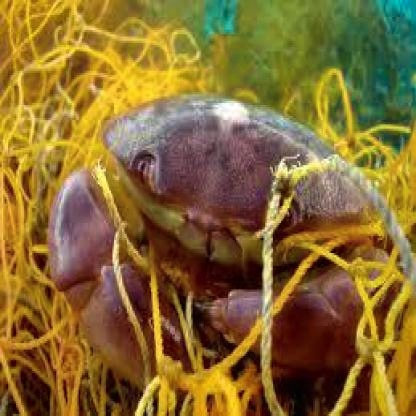net: (0, 0, 217, 416)
